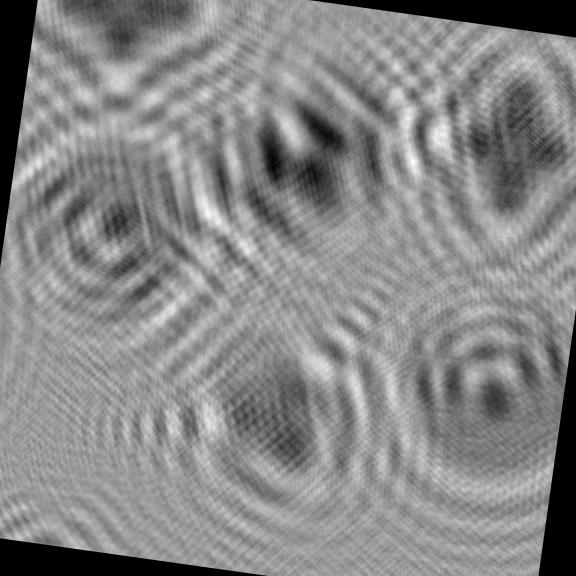U: (0, 85, 266, 387), (339, 243, 576, 537)
W: (150, 12, 448, 301)
X: (375, 14, 576, 299), (21, 0, 277, 147)
Y: (117, 263, 440, 567)
